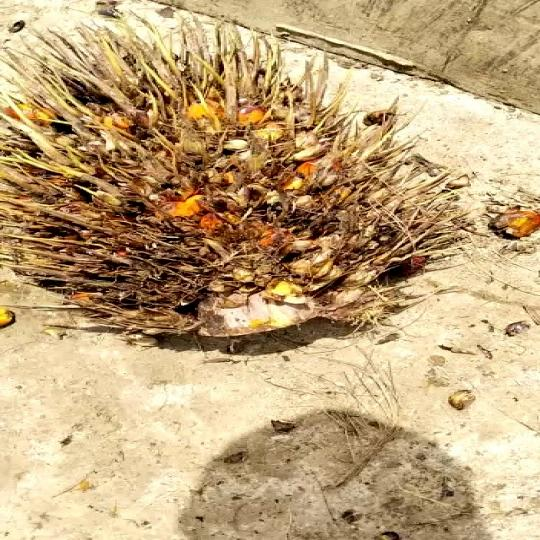terlalu masak: (0, 19, 474, 359)
